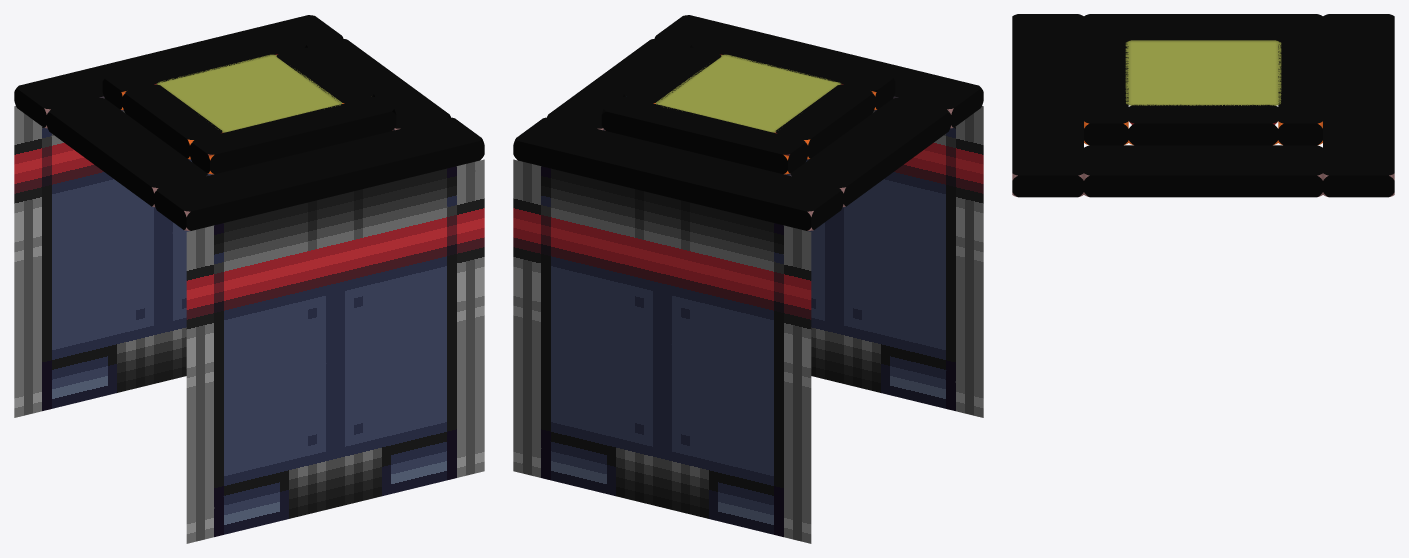
3 views of the same model, side by side, from view 1: azimuth 30°, elevation 25°; view 2: azimuth 150°, elevation 25°; view 3: azimuth 270°, elevation 25° (orthographic). The views are drawn at different scales.
Parts seen in each view (by area): view 1: S, Roof, N; view 2: N, Roof, S; view 3: Roof.
Boxes of the visible parts, bbox=[...] form: S: bbox=[186, 159, 484, 543]; Roof: bbox=[14, 15, 484, 230]; N: bbox=[14, 106, 223, 417]; N: bbox=[513, 159, 811, 543]; Roof: bbox=[513, 15, 983, 230]; S: bbox=[774, 106, 983, 417]; Roof: bbox=[1012, 14, 1394, 197].
Bounding box in the file's own units: 2 × 2.25 × 2.
Materials: 2 (2 with a texture image).
